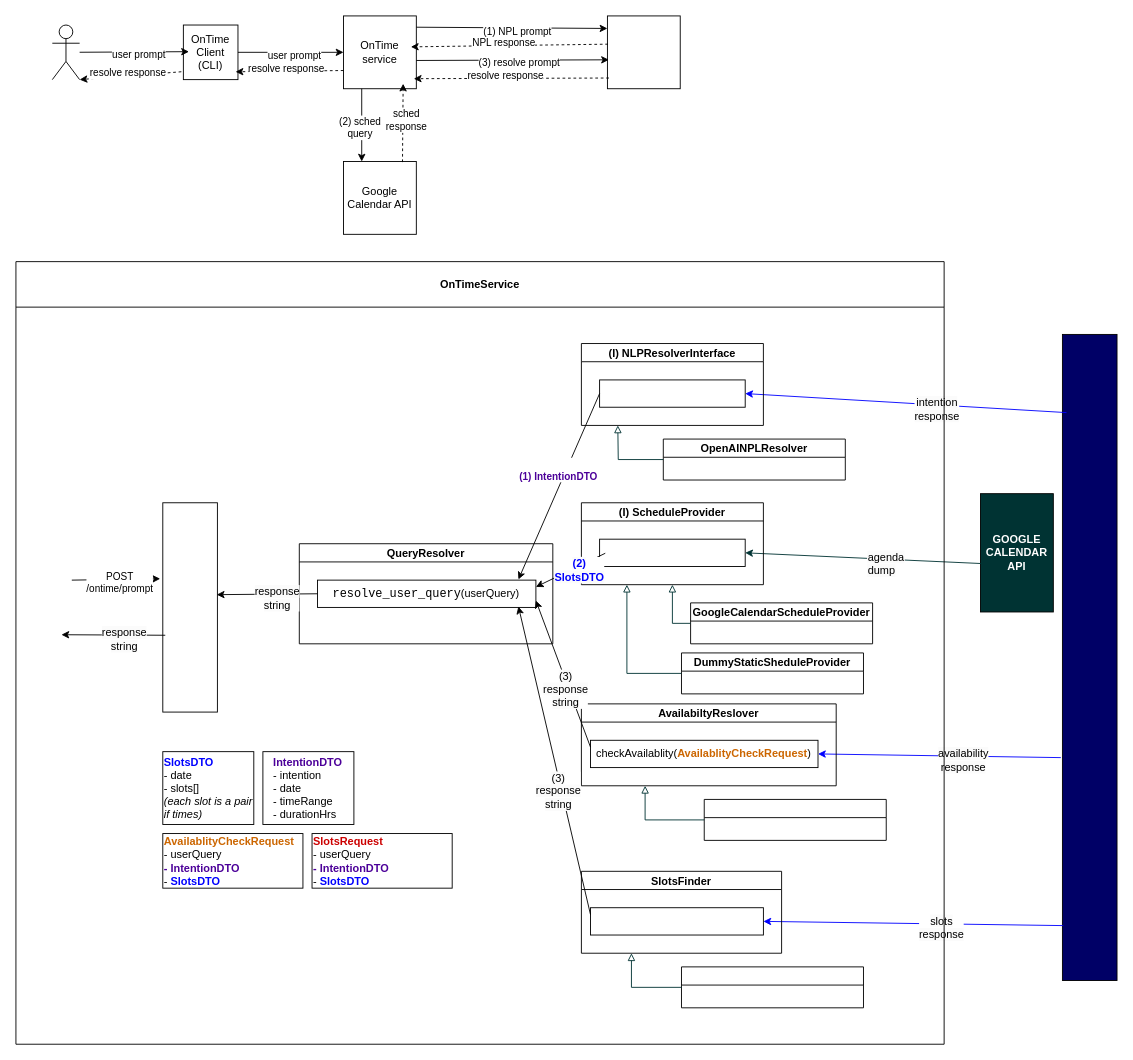
This 1133x1060 diagram has some shape labels left out. Each missing label, with the centre of its shape:
"Actor" goes at (65,52).
"getBusySlotsForDate(date)" goes at (672,552).
"getSlots( SlotsRequest )" goes at (676,921).
"OPEN AI API" goes at (1089,657).
"OpenAI API" goes at (643,52).
"OpenAIAvailabilityResolver" goes at (794,819).
"OpenAISlotsFinder" goes at (772,987).
"resolveIntention(userQuery)" goes at (672,393).
"REST Controller" goes at (189,607).
